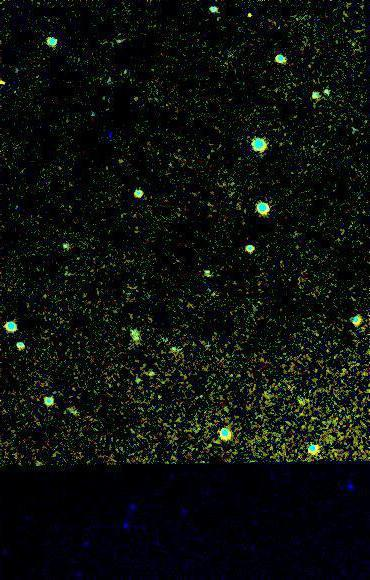star: (235, 1, 265, 31)
